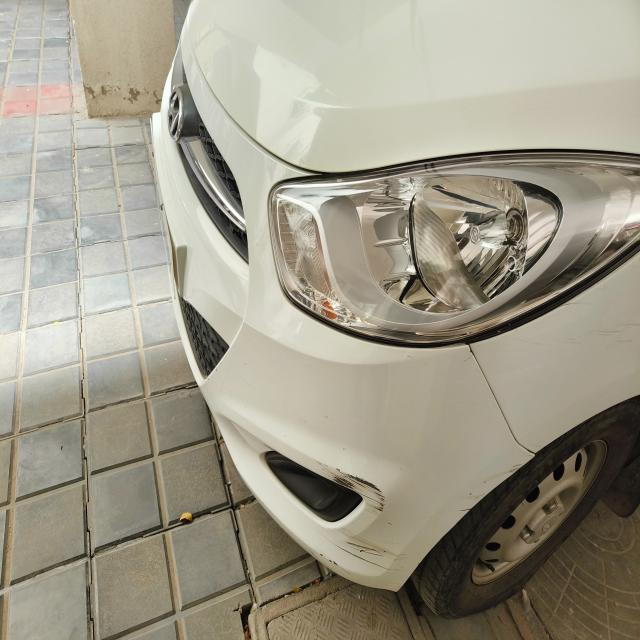scratch: (314, 525, 415, 582), (310, 461, 390, 517), (450, 461, 520, 516)
